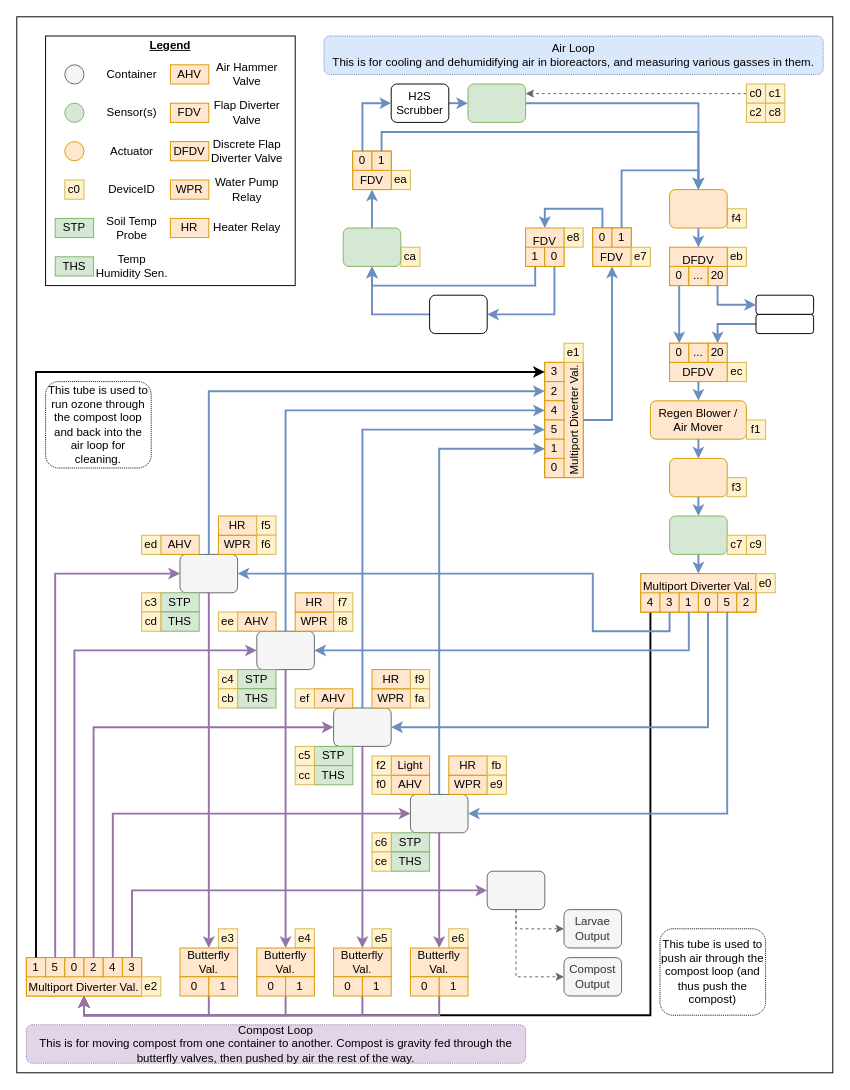
Some shapes in this 850 by 1090 pixel diagram are drawn without their labels. The centre of each missing label's shape, as x and y in pixels:
Bioreactor 1: (285,650)
Bioreactor 2: (362,726)
BSF Reprod.: (438,813)
Flow, O3 Sensors: (698,534)
From Env: (784,323)
O3 Generator: (698,477)
O3 Sensor: (371,246)
Radiator & Dehumid.: (458,314)
Sensor Box: (496,102)
Shredder Storage: (208,573)
Sieve: (515,890)
To Env: (784,304)
UVC Light: (698,208)
